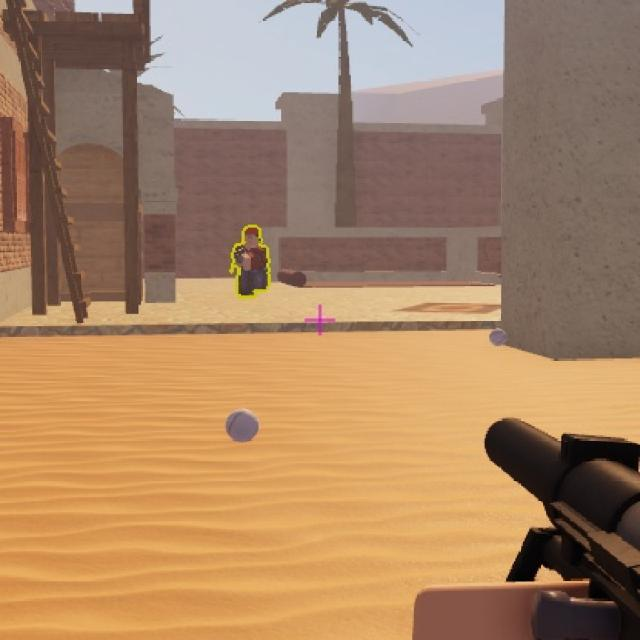player: (230, 225, 274, 298)
